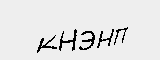К: (34, 33, 58, 56)
Н: (57, 25, 78, 54), (95, 25, 115, 49)
П: (112, 24, 127, 46)
Э: (78, 27, 97, 53)
